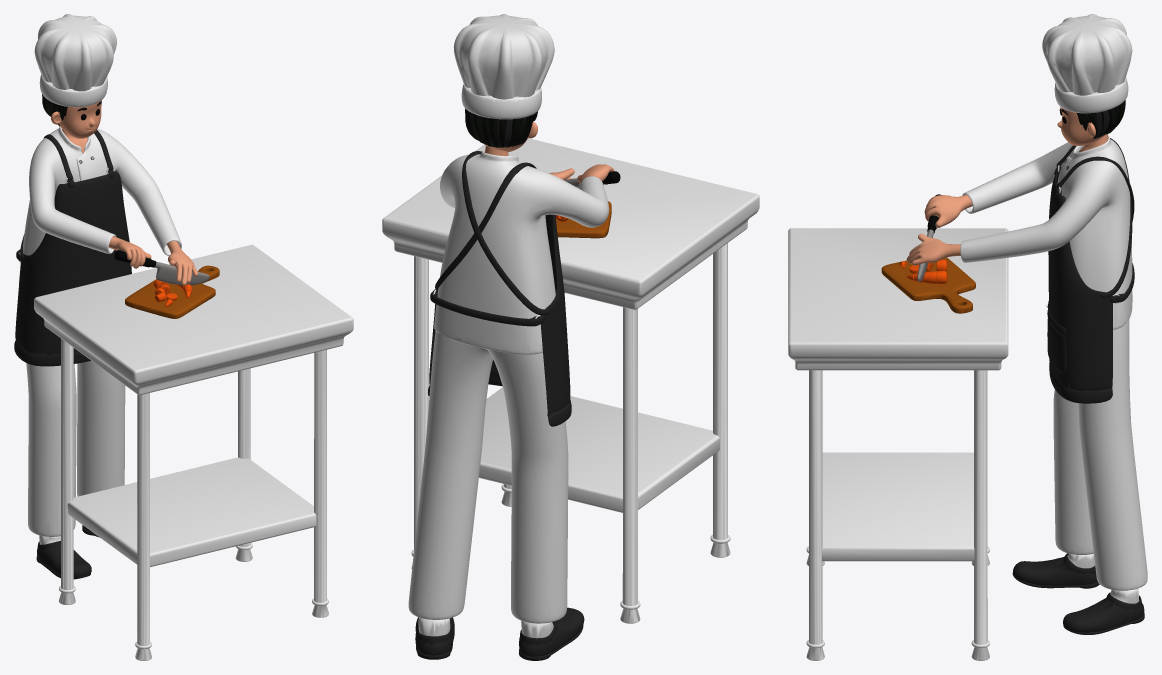
Rendered from cutting.glb.
The picture shows the model from 3 angles, left to right: view 1: azimuth 30°, elevation 25°; view 2: azimuth 150°, elevation 25°; view 3: azimuth 270°, elevation 25°; orthographic projection. The views are drawn at different scales.
Visible parts, largest first — view 1: Yarn Fabric; view 2: Yarn Fabric; view 3: Yarn Fabric.
Boxes of the visible parts, x1,y1,x2,y2 form: Yarn Fabric: (14, 14, 353, 660); Yarn Fabric: (382, 14, 759, 660); Yarn Fabric: (788, 14, 1147, 660).
Bounding box in the file's own units: 0.8762 × 2.02 × 1.15.
1 material, 1 textured.
